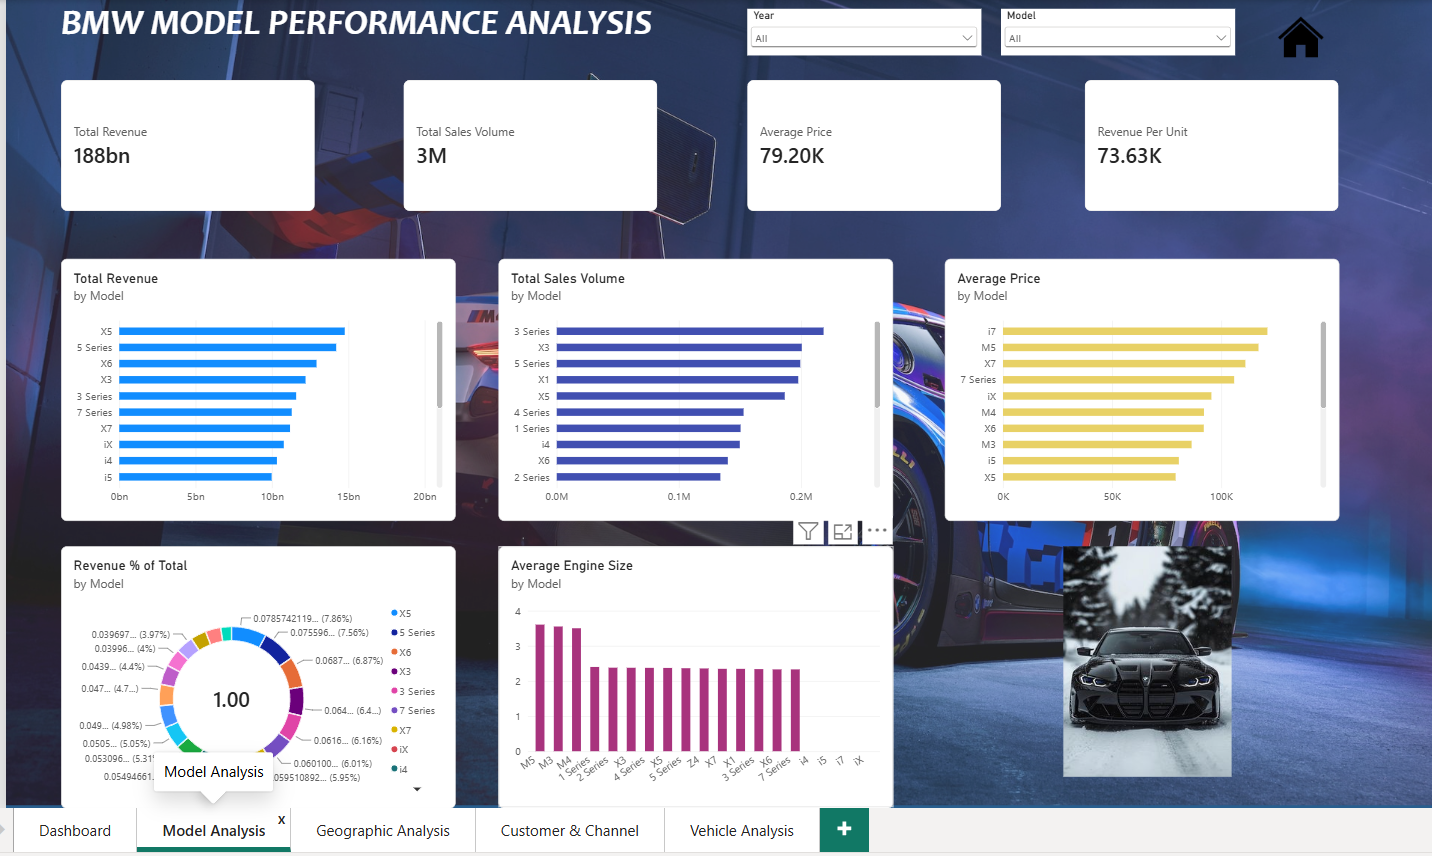

The page's visual inventory and layout, read from the dashboard file:
{"tool":"powerbi","page":{"name":"Model Analysis","canvas":[1920,1080],"ordinal":1},"visuals":[{"type":"textbox","box":[72.9,0,860.4,75],"z":0},{"type":"cardVisual","fields":{"Data":["measure.Total Revenue"]},"box":[72.9,106.2,339.6,175],"z":1000},{"type":"cardVisual","fields":{"Data":["measure.Total Sales Volume"]},"box":[531.2,106.2,339.6,175],"z":2000},{"type":"cardVisual","fields":{"Data":["measure.Average Price"]},"box":[989.6,106.2,339.6,175],"z":3000},{"type":"cardVisual","fields":{"Data":["measure.Revenue Per Unit"]},"box":[1441.7,106.2,339.6,175],"z":4000},{"type":"clusteredBarChart","fields":{"Category":["BMW_Sales.Model"],"Y":["measure.Total Revenue"]},"box":[72.9,345.8,527.1,350],"z":5000},{"type":"clusteredBarChart","fields":{"Category":["BMW_Sales.Model"],"Y":["measure.Total Sales Volume"]},"box":[658.3,345.8,527.1,350],"z":6000},{"type":"barChart","fields":{"Category":["BMW_Sales.Model"],"Y":["measure.Average Price"]},"box":[1254.2,345.8,527.1,350],"z":7000},{"type":"donutChart","fields":{"Category":["BMW_Sales.Model"],"Y":["measure.Revenue % of Total"]},"box":[72.9,729.2,527.1,350],"z":8000},{"type":"columnChart","fields":{"Category":["BMW_Sales.Model"],"Y":["measure.Average Engine Size"]},"box":[658.3,729.2,527.1,350],"z":9000},{"type":"slicer","fields":{"Values":["BMW_Sales.Model"]},"box":[1329.2,12.5,312.5,62.5],"z":10000},{"type":"slicer","fields":{"Values":["Date_Table.Year"]},"box":[990.1,12.3,312.5,62.5],"z":11000},{"type":"image","box":[1254.2,729.2,541.7,308.3],"z":12000},{"type":"image","box":[1695.8,12.5,66.7,75],"z":13000}]}

Visuals, with their boxes on the page's 1920x1080 design canvas (x1, y1, x2, y2). These are canvas units, not pixel positions in the 1432x856 screenshot, which may show the page scaled, cropped or inside an application window:
textbox: [left=73, top=0, right=933, bottom=75]
cardVisual - measure.Total Revenue: [left=73, top=106, right=412, bottom=281]
cardVisual - measure.Total Sales Volume: [left=531, top=106, right=871, bottom=281]
cardVisual - measure.Average Price: [left=990, top=106, right=1329, bottom=281]
cardVisual - measure.Revenue Per Unit: [left=1442, top=106, right=1781, bottom=281]
clusteredBarChart - BMW_Sales.Model x measure.Total Revenue: [left=73, top=346, right=600, bottom=696]
clusteredBarChart - BMW_Sales.Model x measure.Total Sales Volume: [left=658, top=346, right=1185, bottom=696]
barChart - BMW_Sales.Model x measure.Average Price: [left=1254, top=346, right=1781, bottom=696]
donutChart - BMW_Sales.Model x measure.Revenue % of Total: [left=73, top=729, right=600, bottom=1079]
columnChart - BMW_Sales.Model x measure.Average Engine Size: [left=658, top=729, right=1185, bottom=1079]
slicer - BMW_Sales.Model: [left=1329, top=12, right=1642, bottom=75]
slicer - Date_Table.Year: [left=990, top=12, right=1303, bottom=75]
image: [left=1254, top=729, right=1796, bottom=1038]
image: [left=1696, top=12, right=1762, bottom=88]
